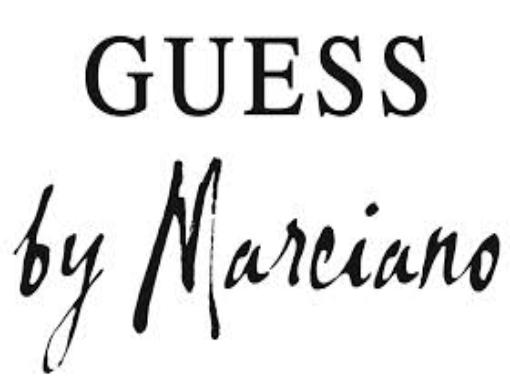GUESS: (80, 33, 435, 114)
